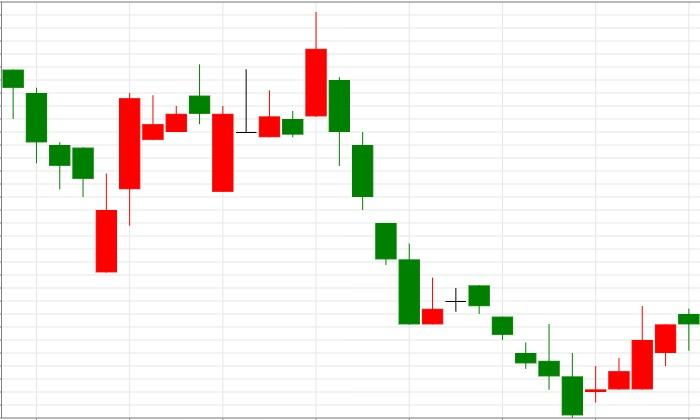three_black_crows_fall: (211, 11, 398, 266), (421, 276, 537, 369)
